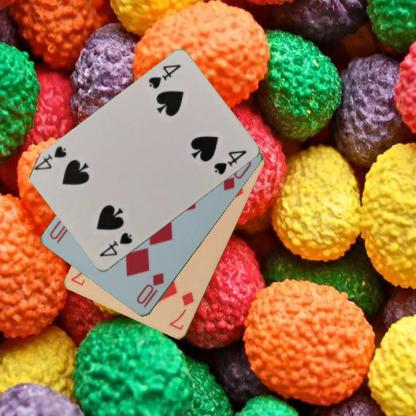10d: (133, 270, 166, 310)
4s: (145, 62, 183, 91), (96, 230, 134, 258)
7d: (166, 289, 196, 332)
